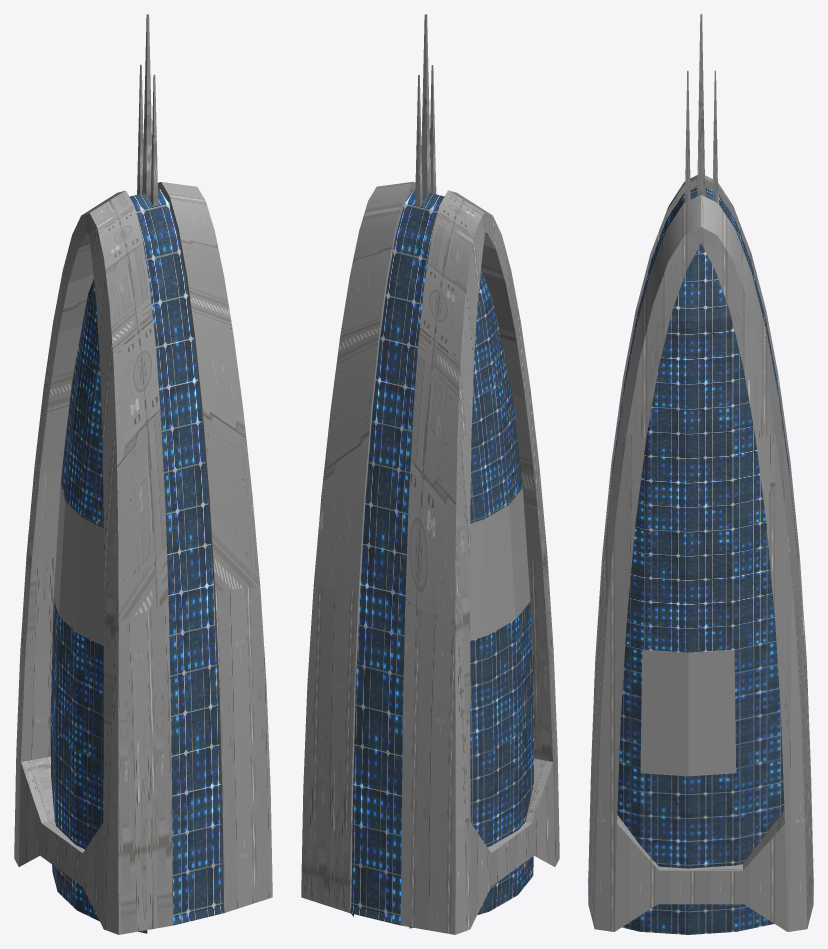
Rendered from BLD1310024.fbx.
3 renders of one model, left to right at view 1: azimuth 30°, elevation 25°; view 2: azimuth 150°, elevation 25°; view 3: azimuth 270°, elevation 25°, orthographic.
Visible parts, largest first — view 1: smBLD1310024; view 2: smBLD1310024; view 3: smBLD1310024.
Part boxes in pixels (left/top/right/bottom): smBLD1310024: left=14, top=14, right=272, bottom=934; smBLD1310024: left=301, top=14, right=559, bottom=934; smBLD1310024: left=588, top=14, right=813, bottom=934.
Bounding box in the file's own units: 726 × 3664 × 846.
3 materials, 2 textured.
